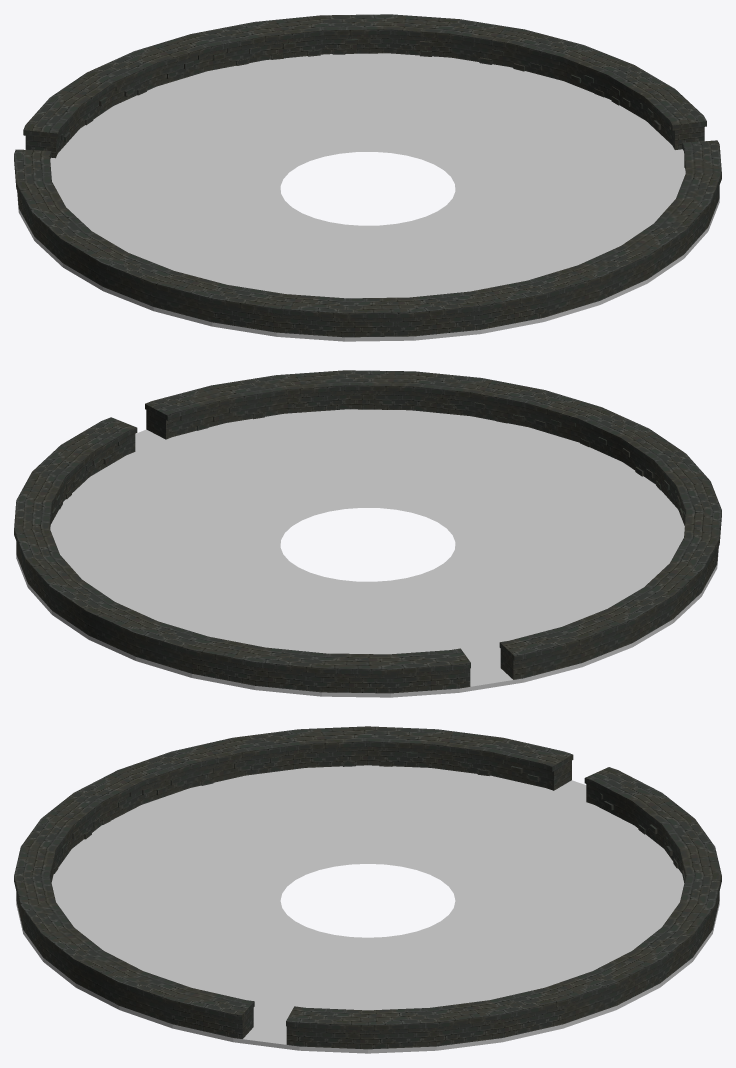
File: ToiletFloor_Base.FBX
The picture shows the model from 3 angles, top to bottom: view 1: azimuth 30°, elevation 25°; view 2: azimuth 150°, elevation 25°; view 3: azimuth 270°, elevation 25°; orthographic projection.
Visible parts, largest first — view 1: sub_toilet_arena_base; view 2: sub_toilet_arena_base; view 3: sub_toilet_arena_base.
Part boxes in pixels (x1=…): sub_toilet_arena_base: x1=14, y1=14, x2=721, y2=341; sub_toilet_arena_base: x1=14, y1=370, x2=721, y2=697; sub_toilet_arena_base: x1=14, y1=726, x2=721, y2=1053.
Bounding box in the file's own units: 2883 × 131 × 2883.
